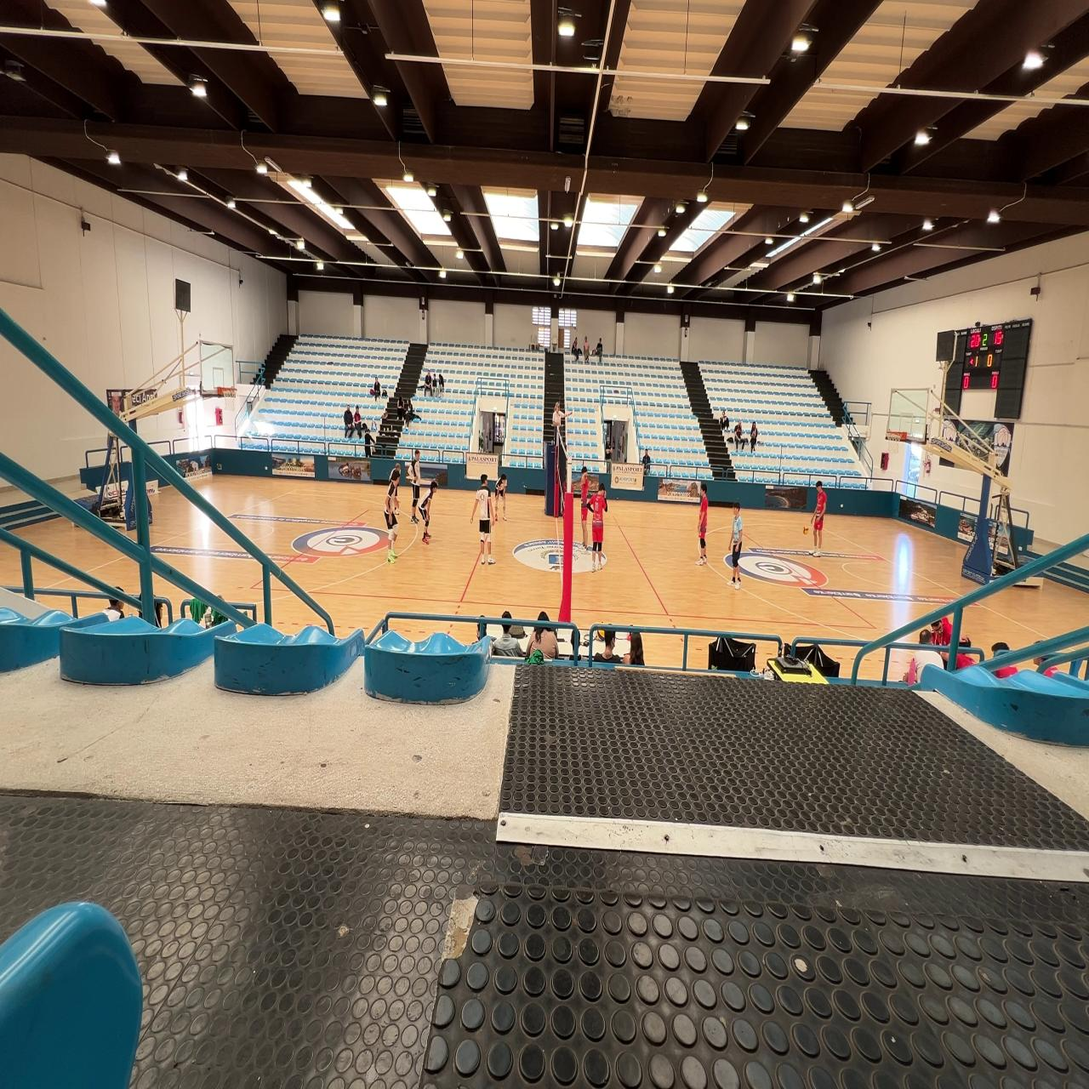ball: (802, 525, 809, 536)
